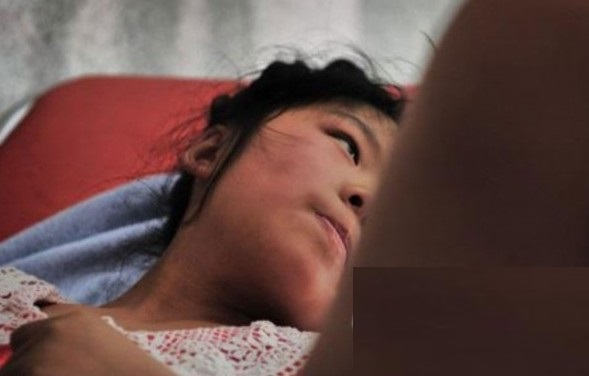face: (235, 94, 403, 308)
